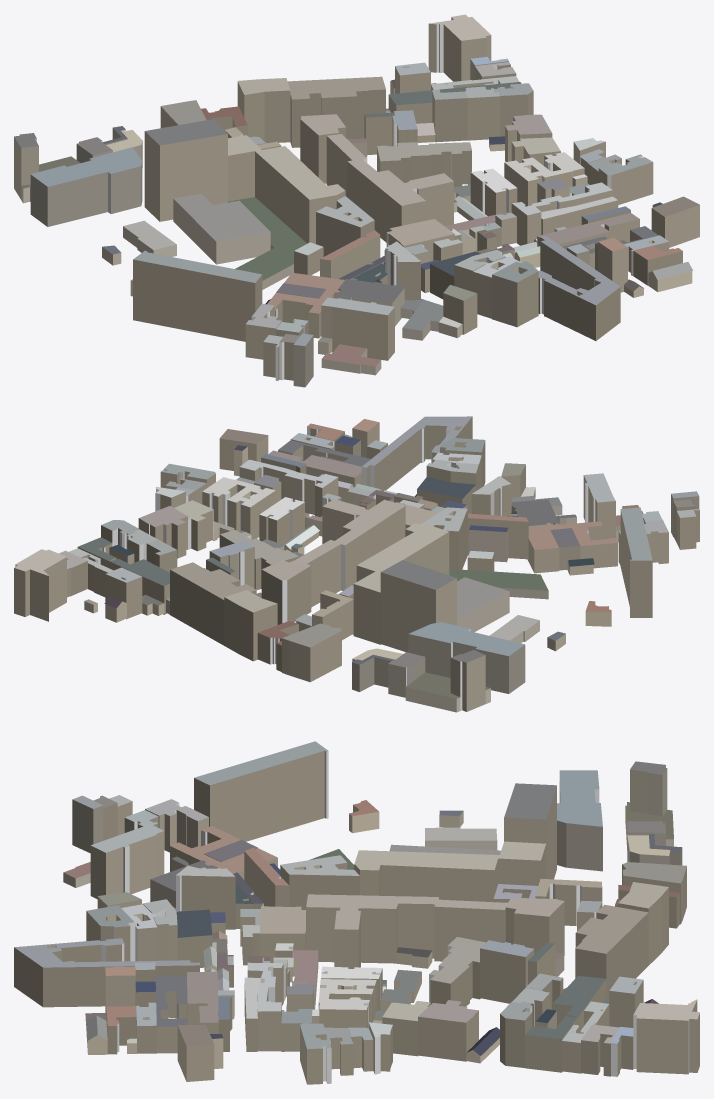
The picture shows the model from 3 angles, top to bottom: view 1: azimuth 30°, elevation 25°; view 2: azimuth 150°, elevation 25°; view 3: azimuth 270°, elevation 25°; orthographic projection. The views are drawn at different scales.
Parts seen in each view (by area): view 1: tuile; view 2: tuile; view 3: tuile.
Part boxes in pixels (bbox=[...]): tuile: bbox=[14, 14, 699, 387]; tuile: bbox=[14, 416, 699, 712]; tuile: bbox=[14, 741, 699, 1084].
Size of the model in its own units: 278 by 43.12 by 289.
